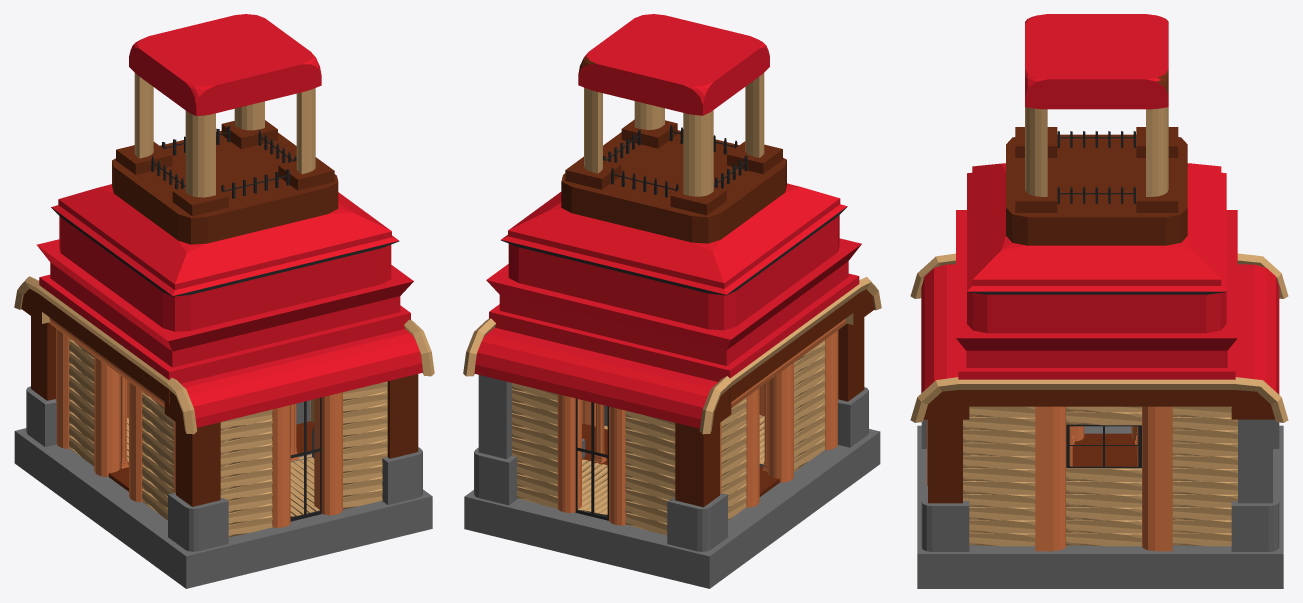
The model's file is town hall.fbx.
3 renders of one model, left to right at view 1: azimuth 30°, elevation 25°; view 2: azimuth 150°, elevation 25°; view 3: azimuth 270°, elevation 25°, orthographic. The views are drawn at different scales.
Parts seen in each view (by area): view 1: townhall; view 2: townhall; view 3: townhall.
Part boxes in pixels (x1=…): townhall: x1=14, y1=14, x2=434, y2=588; townhall: x1=463, y1=14, x2=881, y2=588; townhall: x1=910, y1=14, x2=1288, y2=588.
Bounding box in the file's own units: 851 × 1467 × 1051.
